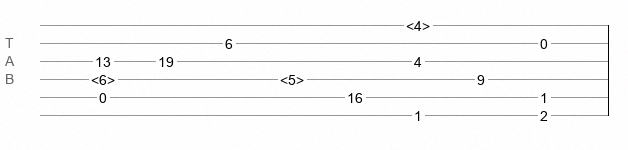0: (99, 90, 107, 100), (540, 36, 548, 46)
1: (414, 108, 422, 118), (540, 90, 548, 100)
13: (95, 54, 111, 64)
16: (347, 90, 363, 100)
19: (158, 54, 174, 64)
2: (540, 108, 548, 118)
4: (414, 54, 422, 64)
6: (225, 36, 233, 46)
9: (477, 72, 485, 82)
harmonic: (91, 72, 115, 82), (280, 72, 304, 82), (406, 18, 430, 28)
